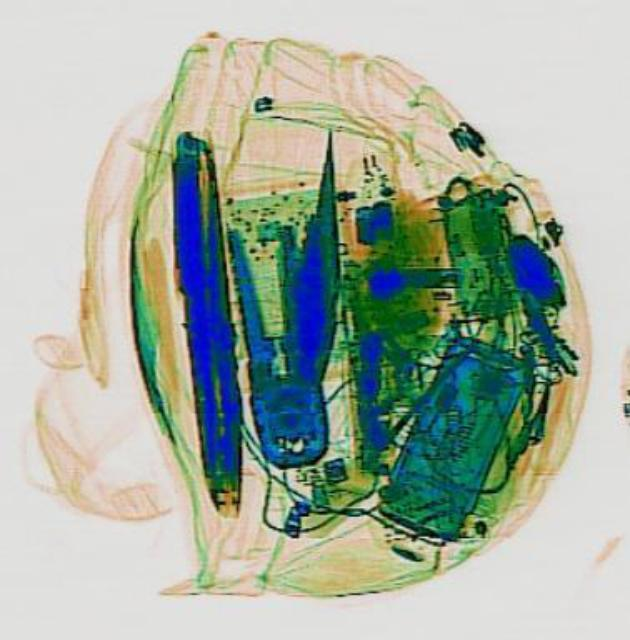Pliers: (214, 126, 356, 470)
